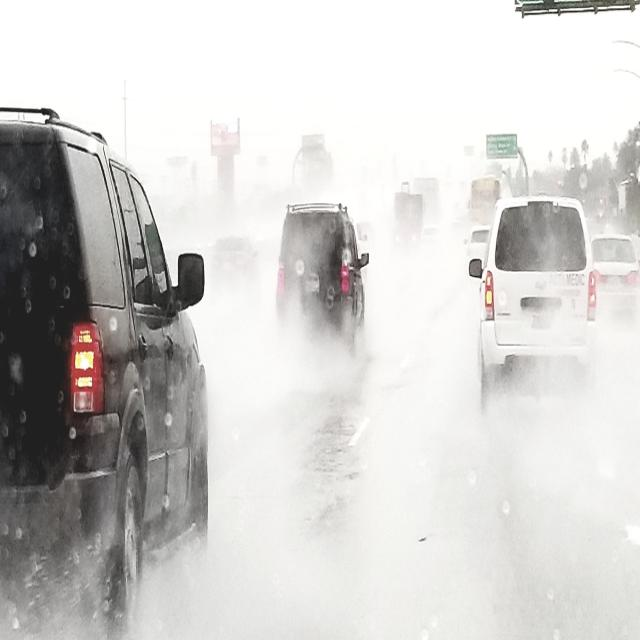bus: (389, 187, 423, 256), (467, 173, 499, 240), (413, 175, 441, 238)
car: (0, 110, 210, 634), (481, 195, 591, 377), (274, 202, 368, 358), (589, 228, 635, 328), (205, 232, 262, 298), (462, 234, 492, 280), (419, 222, 445, 254)
